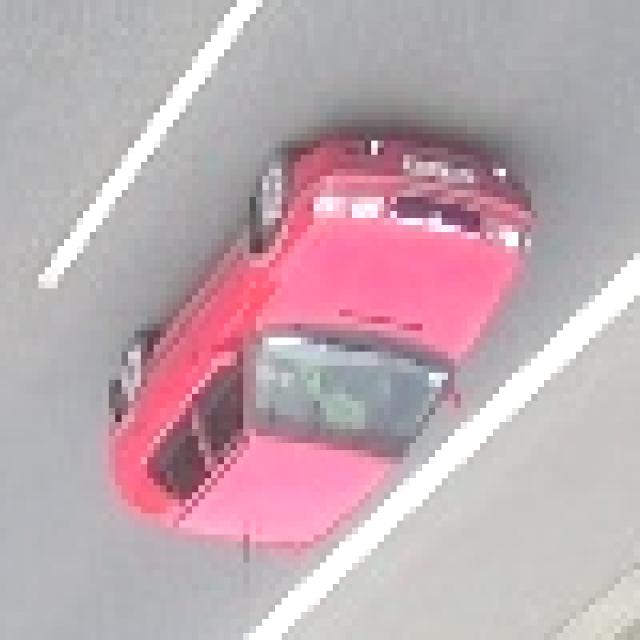red: (108, 128, 535, 544)
